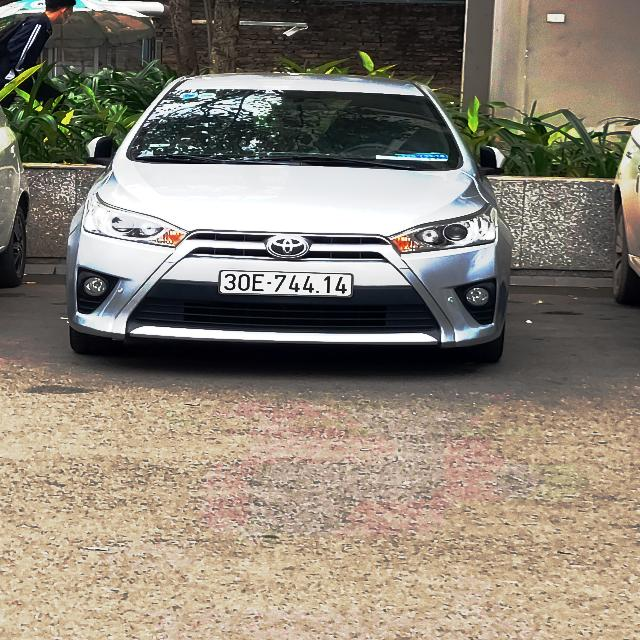license_plate: (220, 271, 354, 295)
